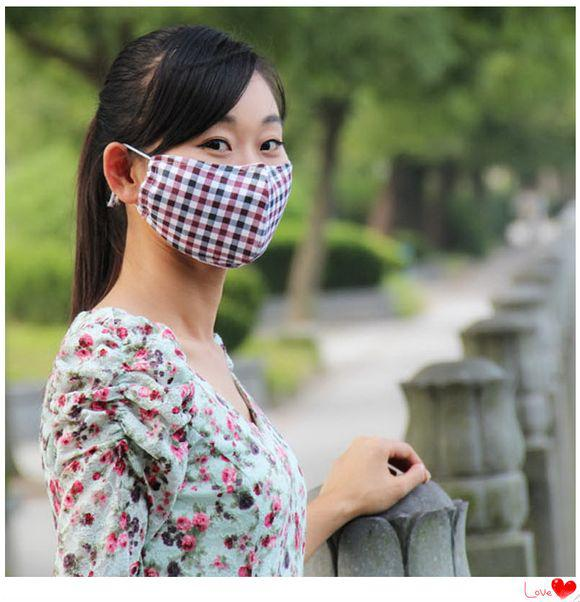OK: (137, 105, 302, 269)
